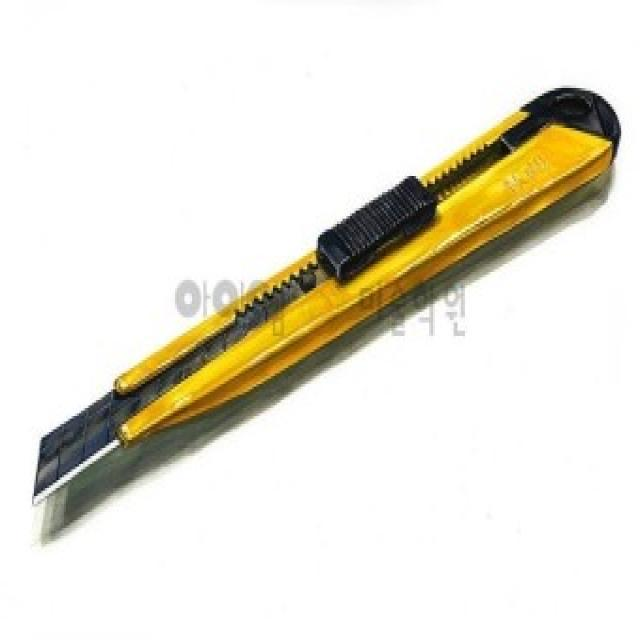cutter: (25, 88, 622, 518)
